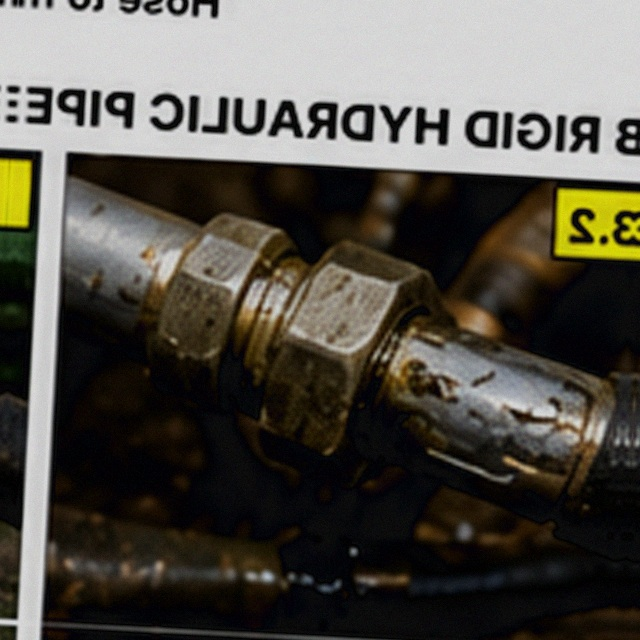hydraulic_oil_leak: (195, 192, 415, 412)
